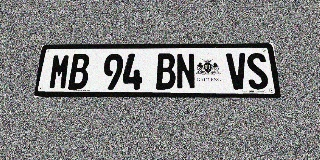4: (122, 54, 143, 89)
9: (102, 54, 124, 89)
B: (68, 54, 90, 89), (156, 53, 176, 89)
M: (48, 54, 71, 89)
N: (176, 53, 196, 89)
S: (246, 53, 269, 89)
V: (226, 53, 249, 89)
